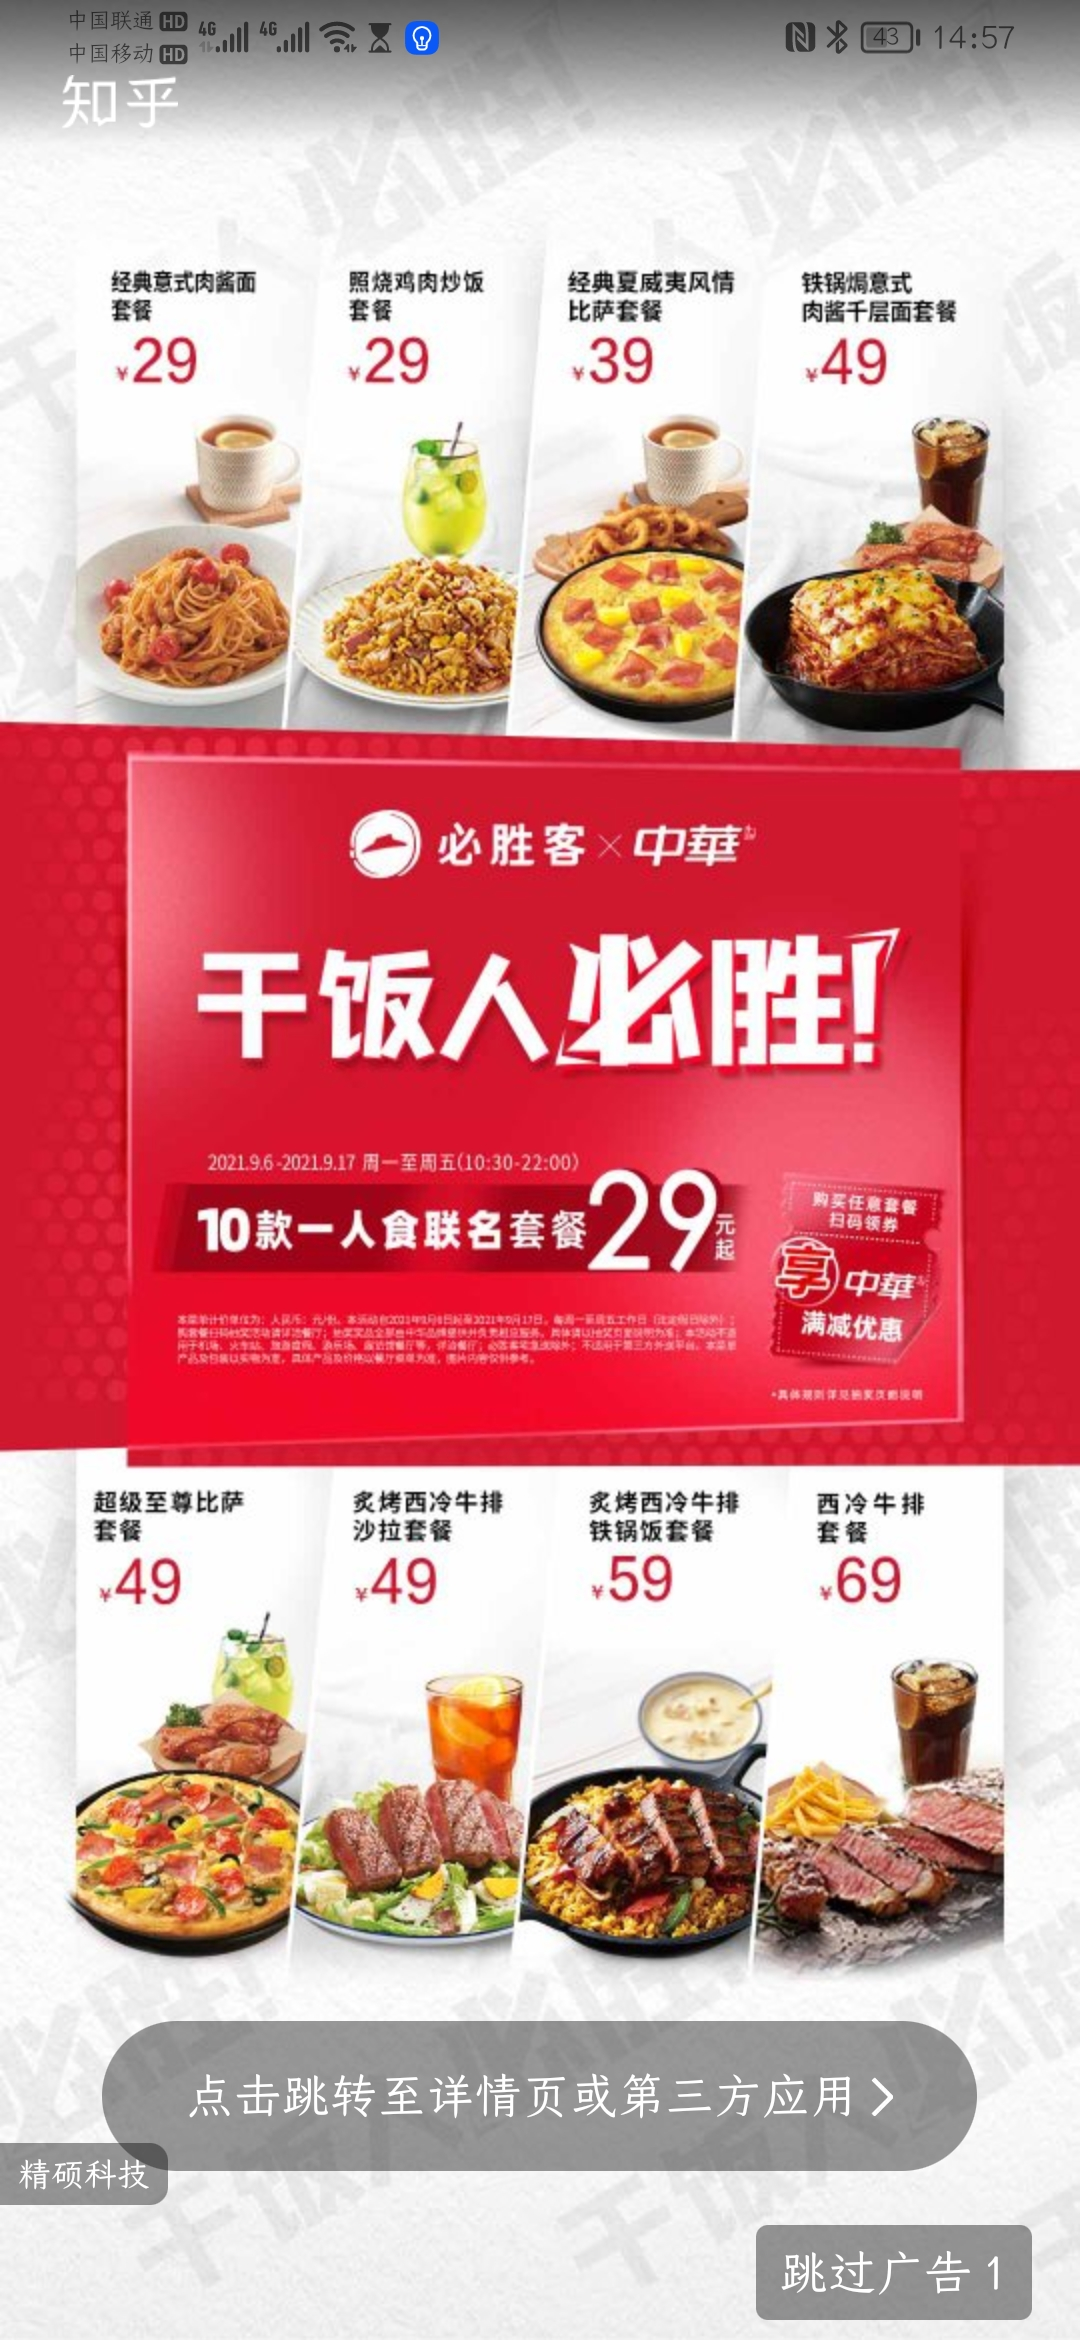skip: (762, 2225, 1017, 2324)
